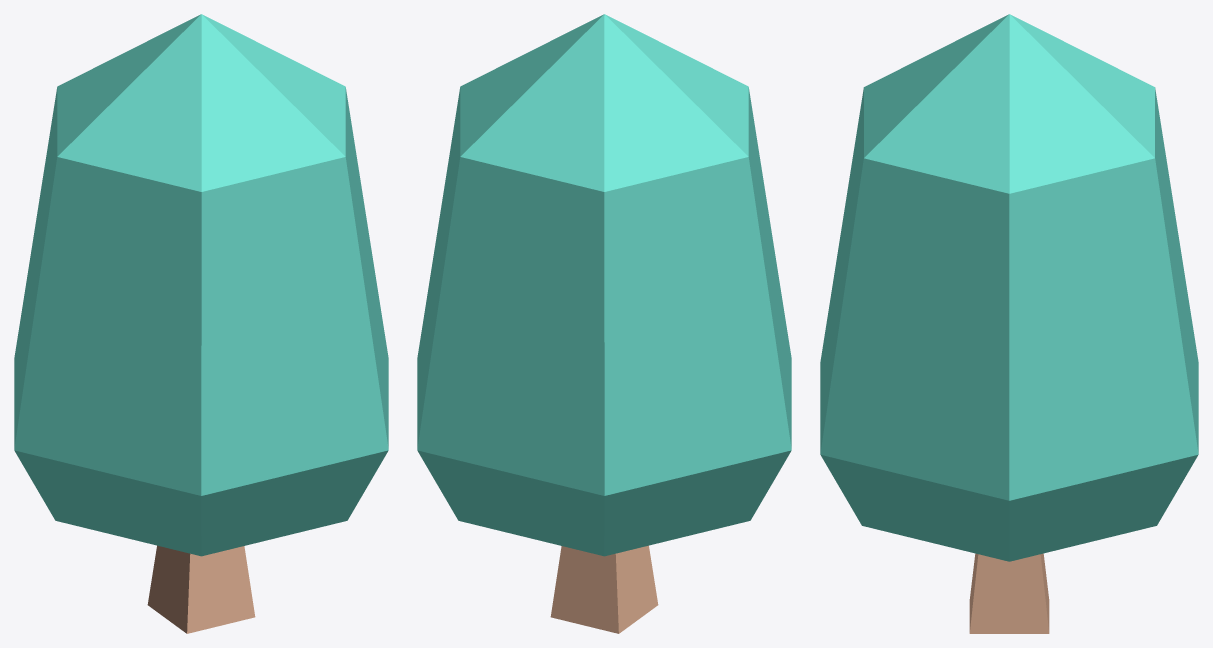
The model's file is tree_fat.glb.
3 views of the same model, side by side, from view 1: azimuth 30°, elevation 25°; view 2: azimuth 150°, elevation 25°; view 3: azimuth 270°, elevation 25° (orthographic).
Parts seen in each view (by area): view 1: tree_fat; view 2: tree_fat; view 3: tree_fat.
Boxes of the visible parts, bbox=[...] form: tree_fat: bbox=[14, 14, 388, 633]; tree_fat: bbox=[417, 14, 791, 633]; tree_fat: bbox=[820, 14, 1198, 633].
Bounding box in the file's own units: 0.755 × 1.15 × 0.6538.
Materials: 1 (1 with a texture image).
